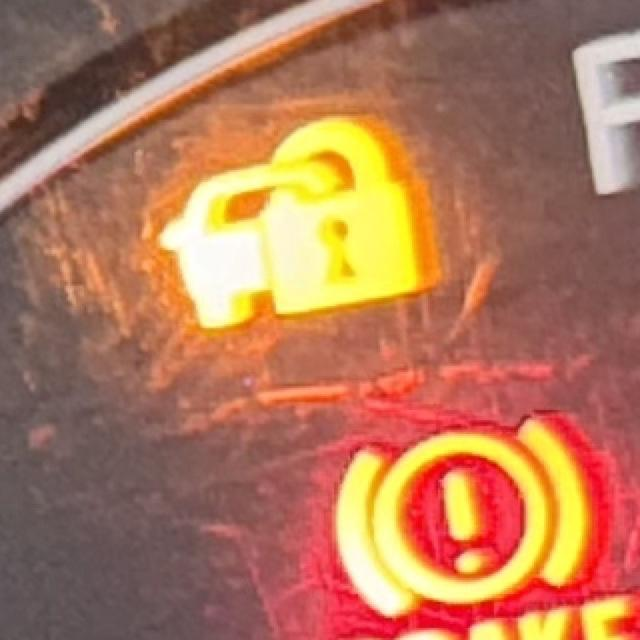Break System Issue: (327, 412, 640, 640)
Car SecurityWarning: (158, 113, 431, 336)
